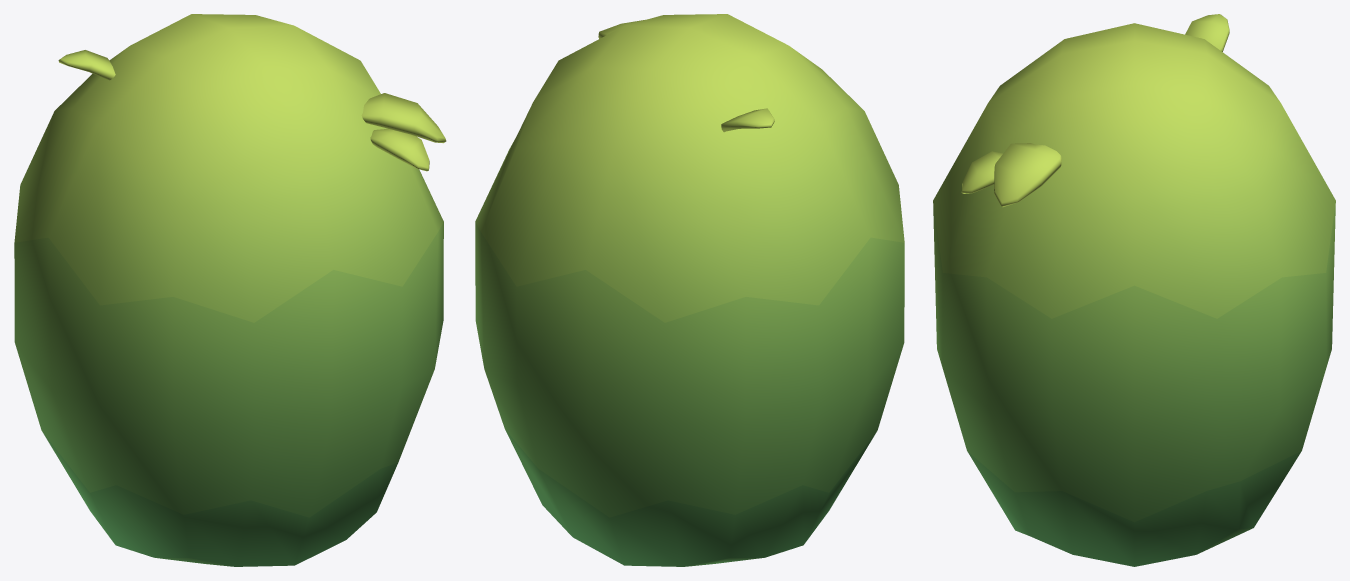
File: bush 05_toon_material_0.001.glb
3 renders of one model, left to right at view 1: azimuth 30°, elevation 25°; view 2: azimuth 150°, elevation 25°; view 3: azimuth 270°, elevation 25°, orthographic. The views are drawn at different scales.
Visible parts, largest first — view 1: bush 05_toon_material_0.001; view 2: bush 05_toon_material_0.001; view 3: bush 05_toon_material_0.001.
Part boxes in pixels (left/top/right/bottom): bush 05_toon_material_0.001: left=14, top=14, right=446, bottom=566; bush 05_toon_material_0.001: left=475, top=14, right=904, bottom=566; bush 05_toon_material_0.001: left=933, top=14, right=1335, bottom=566.
Size of the model in its own units: 1.25 by 1.66 by 1.25.
Materials: 1 (1 with a texture image).
